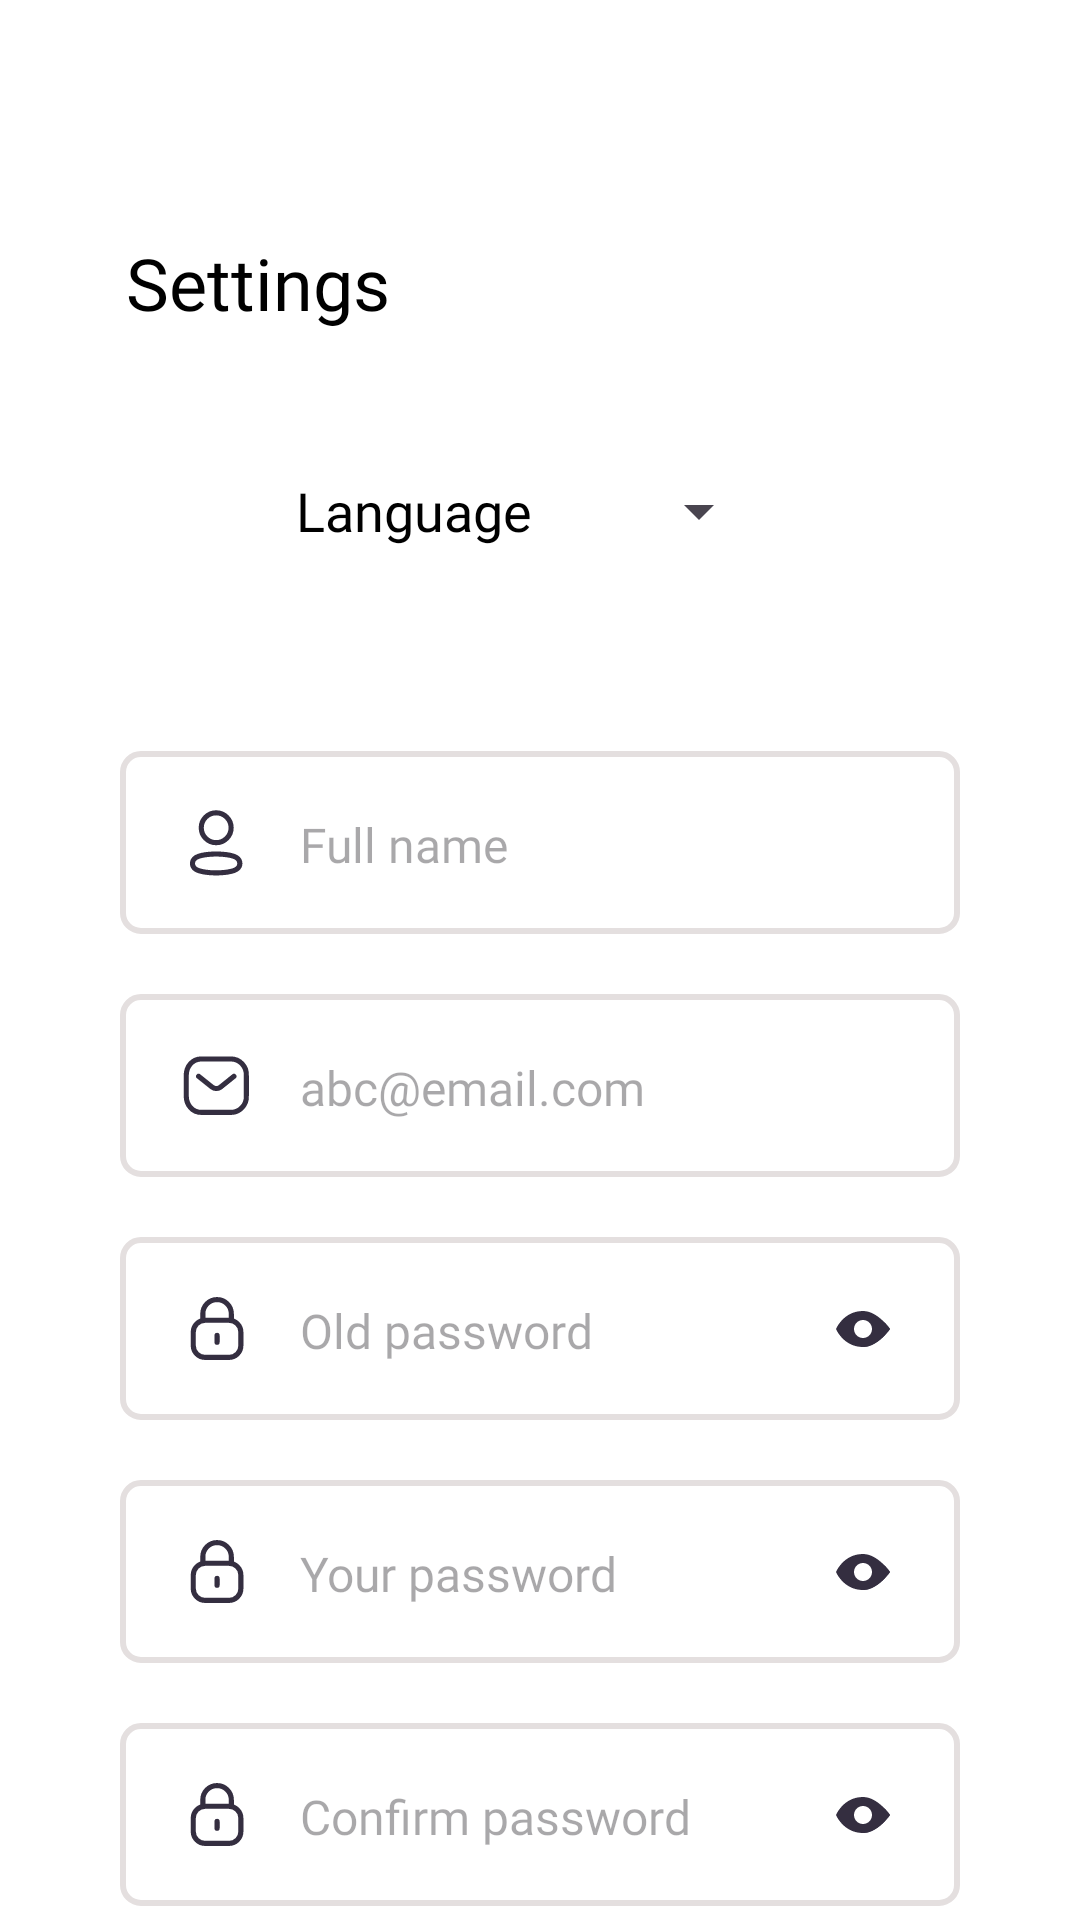

Point at icon controls on the screen. Image size 1080 x 1920, points as [x,y].
password visible: [863,1329], [863,1572], [863,1815]
profile: [216,843]
